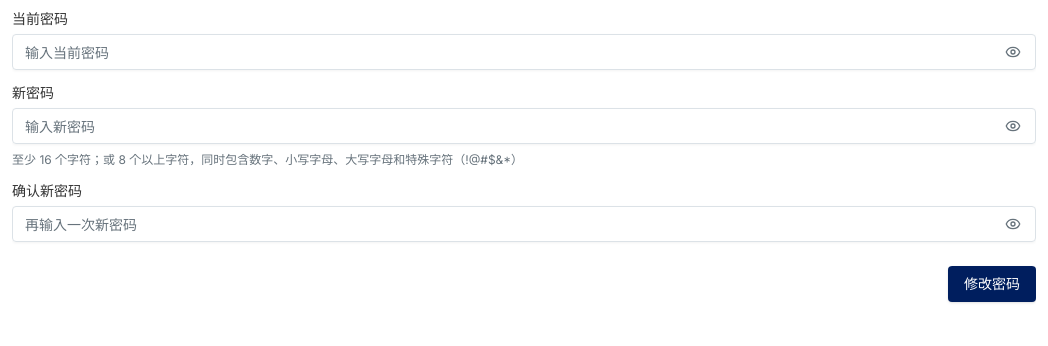
Test: PasswordChangeForm › refuses abcdefghijklmno (fifteen ascii characters) the way the endpoint does
In the password field with placeholder "输入当前密码": (505, 52) [13,34,997,70], type "Oldpass0!"
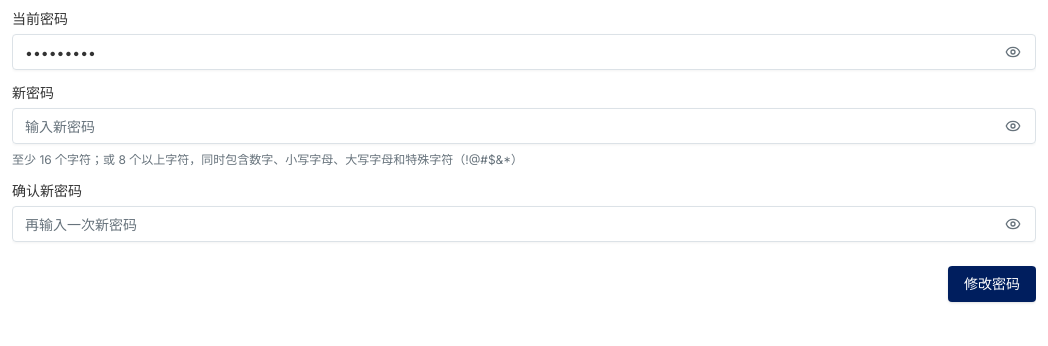
In the password field with placeholder "输入新密码": (505, 126) [13,108,997,144], type "abcdefghijklmno"
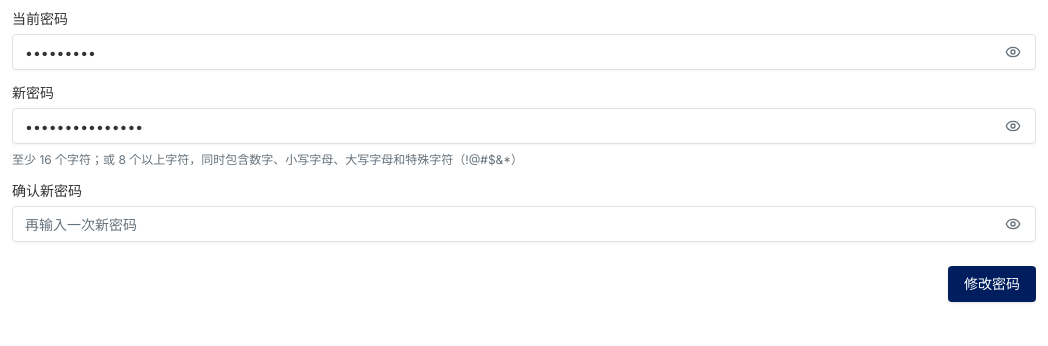
In the password field with placeholder "再输入一次新密码": (505, 224) [13,206,997,242], type "abcdefghijklmno"
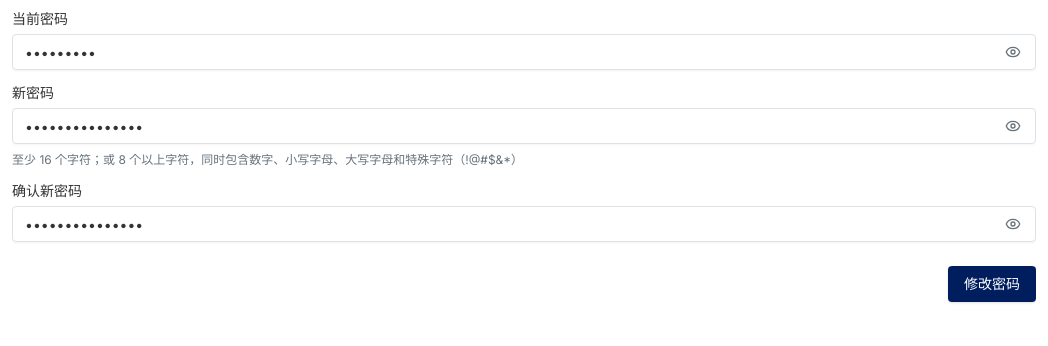
Click the button "修改密码": (992, 284) [948,266,1036,302]
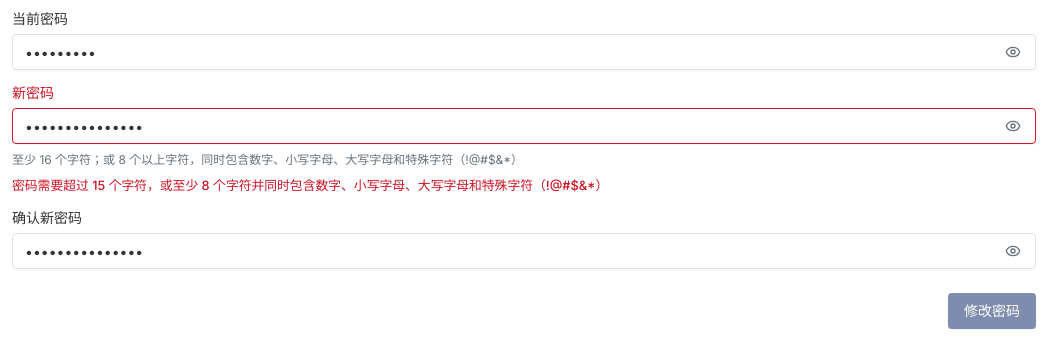
Expected: the text "密码需要超过 15 个字符，或至少 8 个字符并同时包含数字、小写字母、大写字母和特殊字符（!@#$&*）" is shown, [12,178,608,193]
